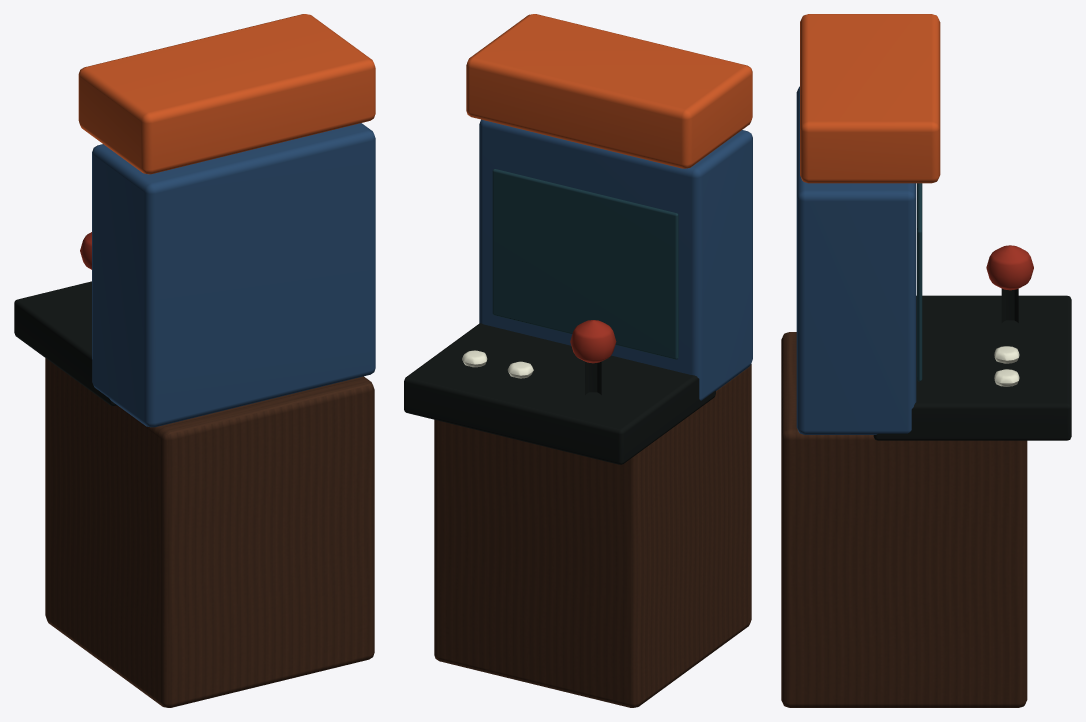
File: arcade.glb
3 renders of one model, left to right at view 1: azimuth 30°, elevation 25°; view 2: azimuth 150°, elevation 25°; view 3: azimuth 270°, elevation 25°, orthographic. The views are drawn at different scales.
Parts seen in each view (by area): view 1: V2_arcade_walnut.005, V2_arcade_blue.005, V2_arcade_orange.005, V2_arcade_metal.005; view 2: V2_arcade_walnut.005, V2_arcade_blue.005, V2_arcade_orange.005, V2_arcade_screen.005, V2_arcade_metal.005, V2_arcade_red.005, V2_arcade_white.005; view 3: V2_arcade_walnut.005, V2_arcade_blue.005, V2_arcade_orange.005, V2_arcade_metal.005, V2_arcade_red.005, V2_arcade_screen.005, V2_arcade_white.005.
Part boxes in pixels (box(x1,y1,x2,y2)): V2_arcade_walnut.005: box(45, 358, 374, 707); V2_arcade_blue.005: box(92, 123, 375, 427); V2_arcade_orange.005: box(78, 14, 375, 174); V2_arcade_metal.005: box(14, 281, 116, 405); V2_arcade_walnut.005: box(434, 364, 751, 707); V2_arcade_blue.005: box(479, 119, 752, 400); V2_arcade_orange.005: box(466, 14, 752, 168); V2_arcade_screen.005: box(492, 169, 678, 359); V2_arcade_metal.005: box(404, 323, 715, 464); V2_arcade_red.005: box(570, 320, 616, 363); V2_arcade_white.005: box(462, 350, 533, 378); V2_arcade_walnut.005: box(781, 332, 1027, 707); V2_arcade_blue.005: box(796, 86, 916, 434); V2_arcade_orange.005: box(800, 14, 940, 183); V2_arcade_metal.005: box(873, 288, 1071, 440); V2_arcade_red.005: box(986, 245, 1033, 290); V2_arcade_screen.005: box(917, 183, 922, 381); V2_arcade_white.005: box(994, 346, 1019, 386).
Bounding box in the file's own units: 0.79 × 1.91 × 0.85.
7 materials, 1 textured.
